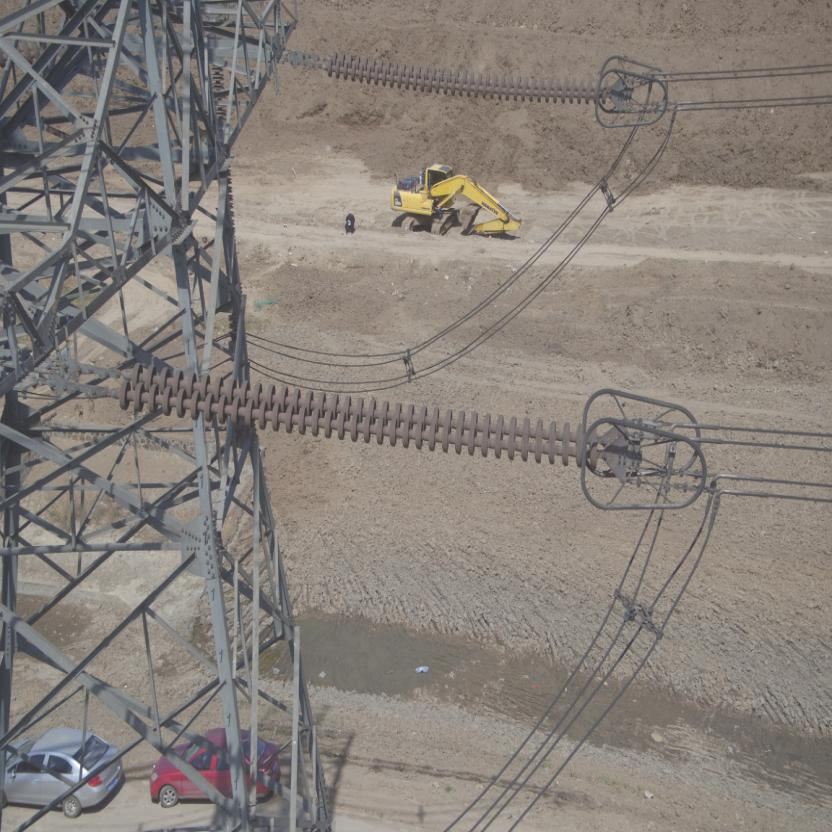insulator: (87, 358, 614, 473), (306, 48, 620, 106)
